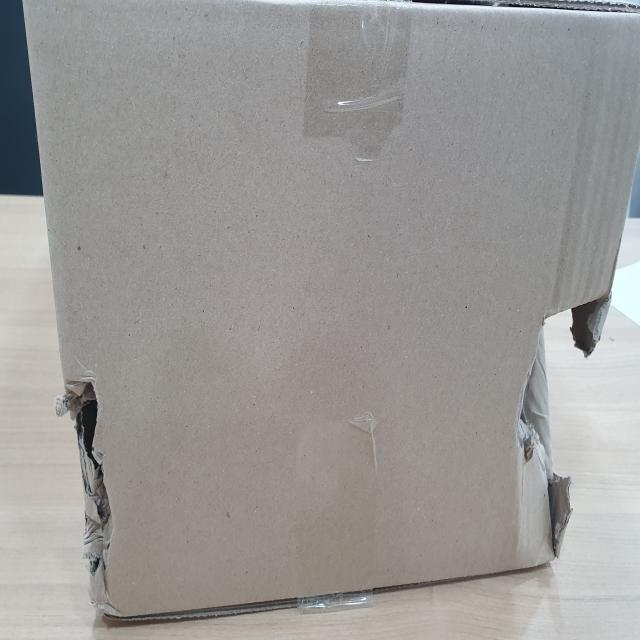hole: (496, 250, 612, 555), (65, 375, 117, 601)
